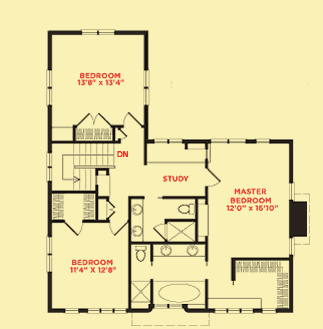door: (75, 112, 111, 127), (121, 110, 144, 130), (204, 166, 223, 190), (63, 219, 83, 237), (107, 220, 127, 237), (152, 223, 166, 239), (107, 200, 117, 218)
large_sink: (132, 244, 148, 265), (176, 202, 196, 214)
small_sink: (153, 244, 204, 258), (131, 197, 143, 241)
stairs: (50, 142, 115, 193)
tub: (152, 280, 207, 305)
window: (44, 68, 54, 107), (87, 306, 126, 315), (79, 27, 116, 35), (213, 308, 254, 315), (142, 68, 150, 103), (210, 138, 249, 145), (47, 236, 54, 275), (45, 150, 52, 182), (151, 138, 184, 144), (255, 138, 273, 145)
